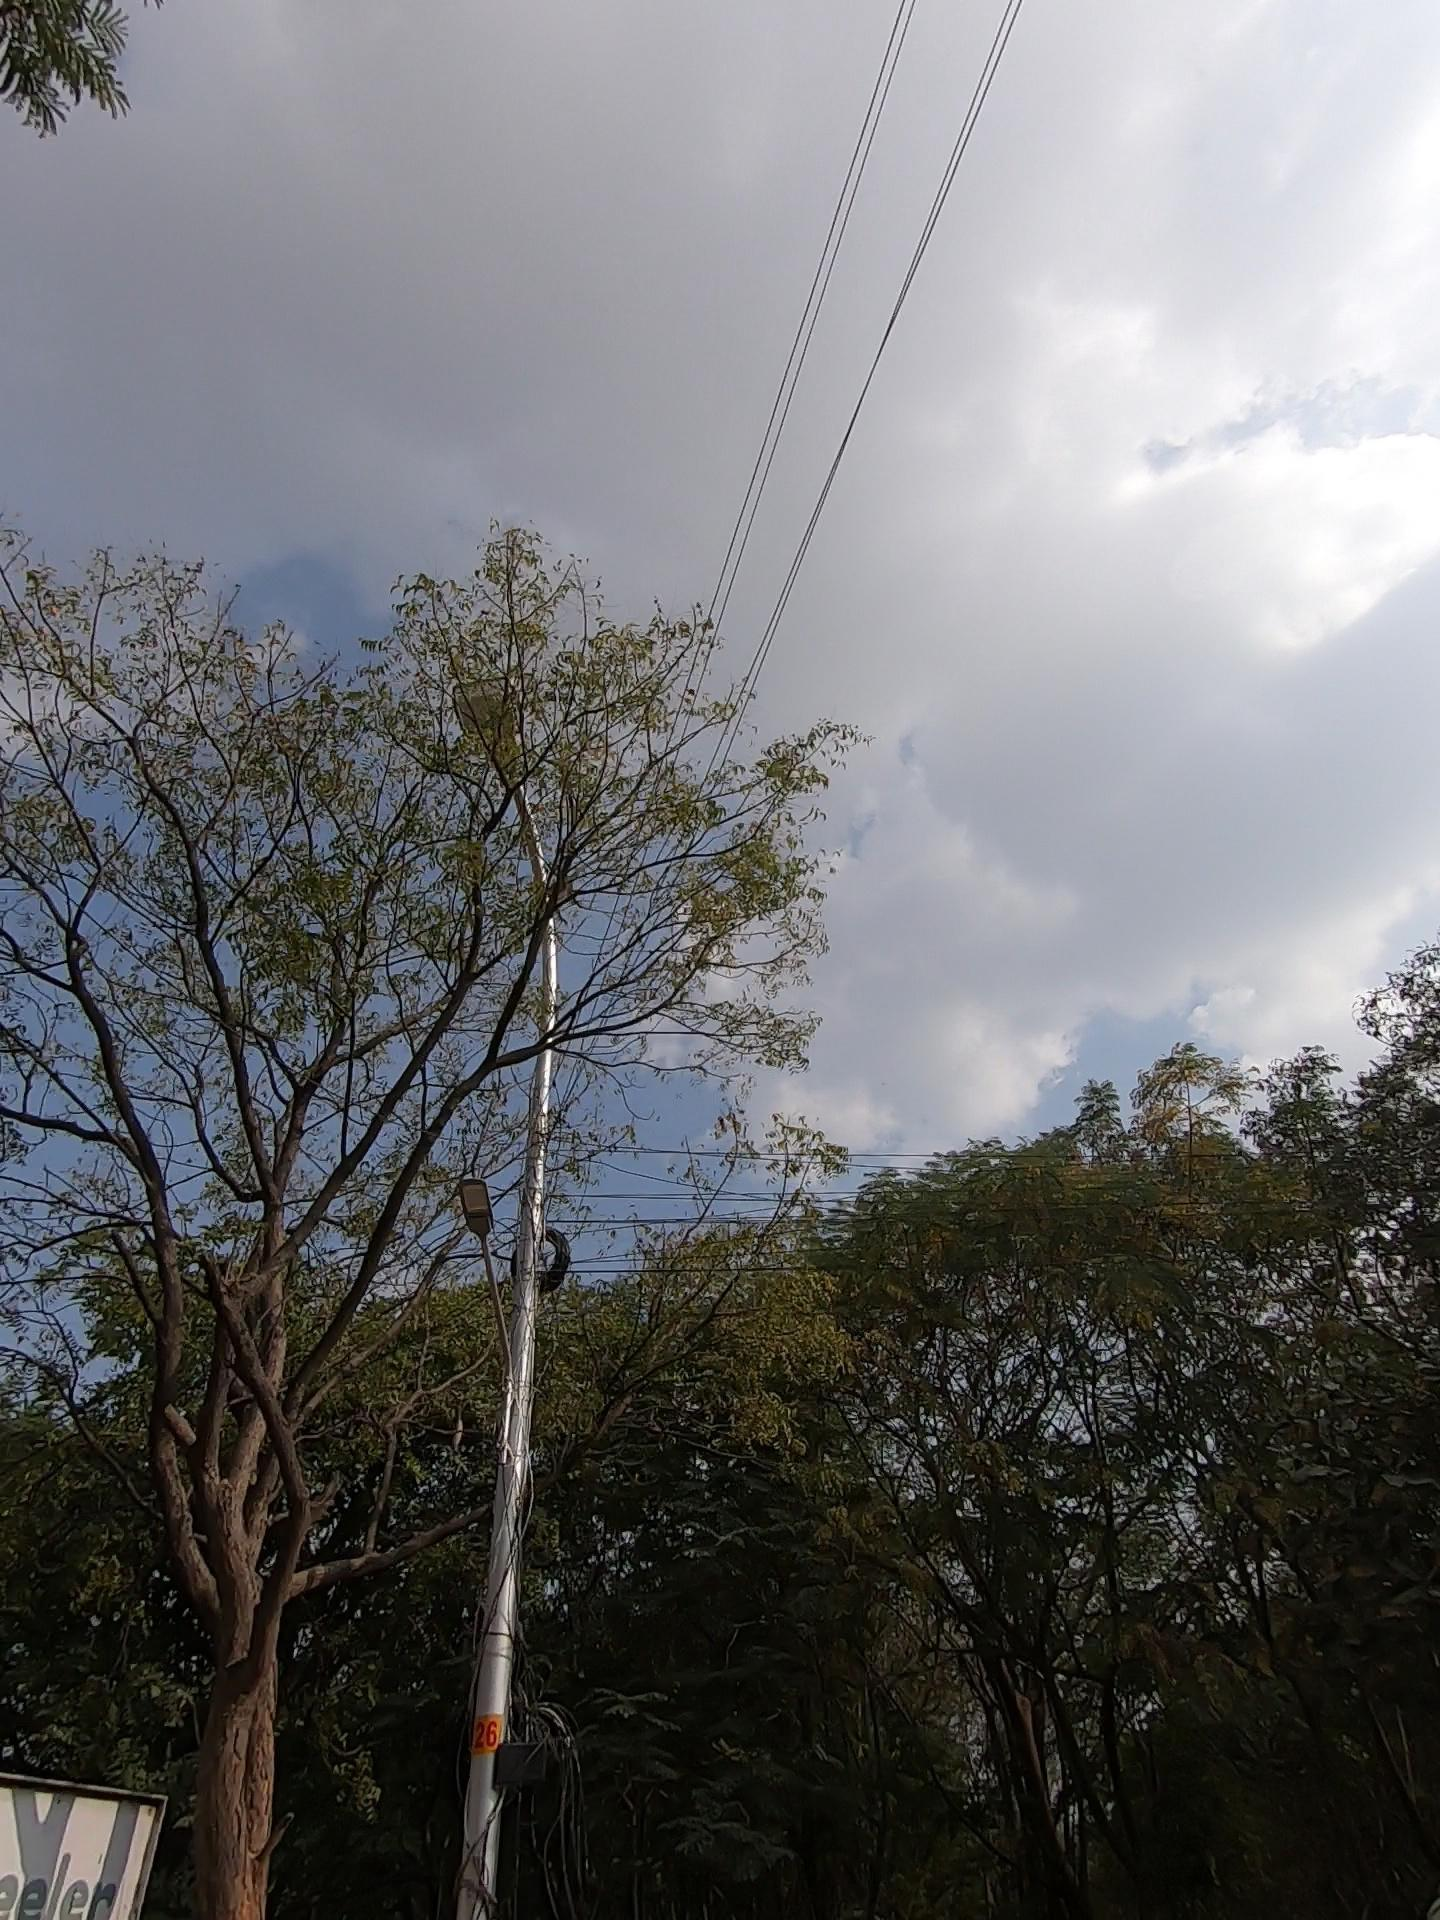off: (390, 661, 732, 1116)
